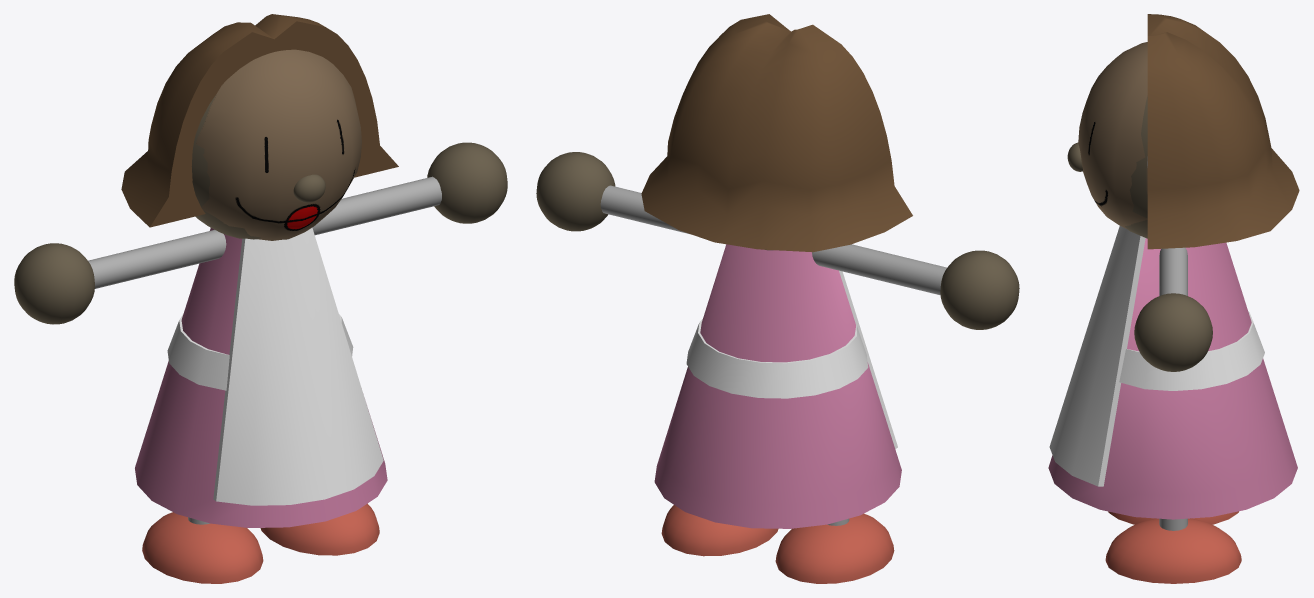
Rendered from Mother.fbx.
The picture shows the model from 3 angles, left to right: view 1: azimuth 30°, elevation 25°; view 2: azimuth 150°, elevation 25°; view 3: azimuth 270°, elevation 25°; orthographic projection. The views are drawn at different scales.
Parts seen in each view (by area): view 1: polySurface52, polySurface48, pSphere16, polySurface47, polySurface103, polySurface102, polySurface100, polySurface45, polySurface101, pCone3, pSphere15, polySurface46; view 2: pSphere16, polySurface52, pCone3, polySurface47, polySurface103, polySurface102, polySurface100, polySurface45, polySurface101; view 3: polySurface52, pSphere16, polySurface48, polySurface45, polySurface102, pCone3, pSphere15, polySurface101, polySurface47, polySurface46.
Boxes of the visible parts, bbox=[...] form: polySurface52: bbox=[135, 228, 387, 527]; polySurface48: bbox=[196, 49, 361, 240]; pSphere16: bbox=[121, 14, 398, 227]; polySurface47: bbox=[142, 512, 263, 583]; polySurface103: bbox=[14, 243, 94, 324]; polySurface102: bbox=[427, 142, 507, 223]; polySurface100: bbox=[88, 229, 226, 288]; polySurface45: bbox=[260, 503, 379, 555]; polySurface101: bbox=[312, 176, 441, 235]; pCone3: bbox=[167, 313, 353, 390]; pSphere15: bbox=[191, 94, 260, 239]; polySurface46: bbox=[293, 174, 325, 202]; pSphere16: bbox=[641, 14, 912, 252]; polySurface52: bbox=[654, 244, 901, 528]; pCone3: bbox=[686, 319, 868, 398]; polySurface47: bbox=[775, 513, 894, 583]; polySurface103: bbox=[940, 250, 1019, 329]; polySurface102: bbox=[536, 152, 615, 231]; polySurface100: bbox=[812, 244, 946, 295]; polySurface45: bbox=[661, 505, 778, 556]; polySurface101: bbox=[600, 185, 688, 233]; polySurface52: bbox=[1048, 156, 1297, 519]; pSphere16: bbox=[1147, 14, 1299, 249]; polySurface48: bbox=[1078, 42, 1147, 228]; polySurface45: bbox=[1105, 518, 1241, 583]; polySurface102: bbox=[1134, 293, 1212, 371]; pCone3: bbox=[1119, 311, 1264, 390]; pSphere15: bbox=[1125, 96, 1147, 238]; polySurface101: bbox=[1159, 247, 1187, 295]; polySurface47: bbox=[1108, 511, 1238, 524]; polySurface46: bbox=[1067, 142, 1082, 171].
Bounding box in the file's own units: 10.01 × 10.39 × 4.66.
7 materials, 1 textured.
